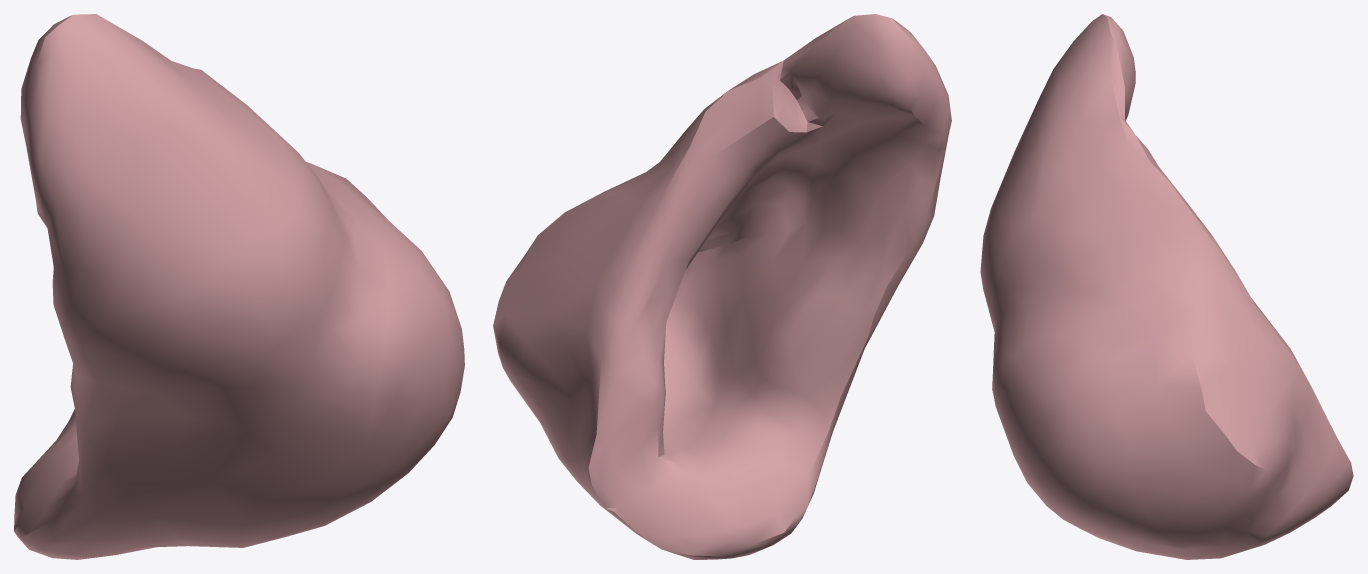
Rendered from fma272829_mm3168m.glb.
3 views of the same model, side by side, from view 1: azimuth 30°, elevation 25°; view 2: azimuth 150°, elevation 25°; view 3: azimuth 270°, elevation 25° (orthographic). The views are drawn at different scales.
Visible parts, largest first — view 1: FMA272829_MM3168M; view 2: FMA272829_MM3168M; view 3: FMA272829_MM3168M.
Boxes of the visible parts, x1=… form: FMA272829_MM3168M: x1=14, y1=14, x2=464, y2=559; FMA272829_MM3168M: x1=493, y1=14, x2=951, y2=559; FMA272829_MM3168M: x1=980, y1=14, x2=1353, y2=559.
Bounding box in the file's own units: 0.0155 × 0.0204 × 0.0148.
